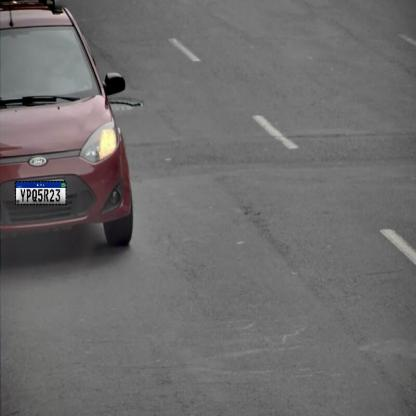PlacaM: (15, 181, 67, 205)
